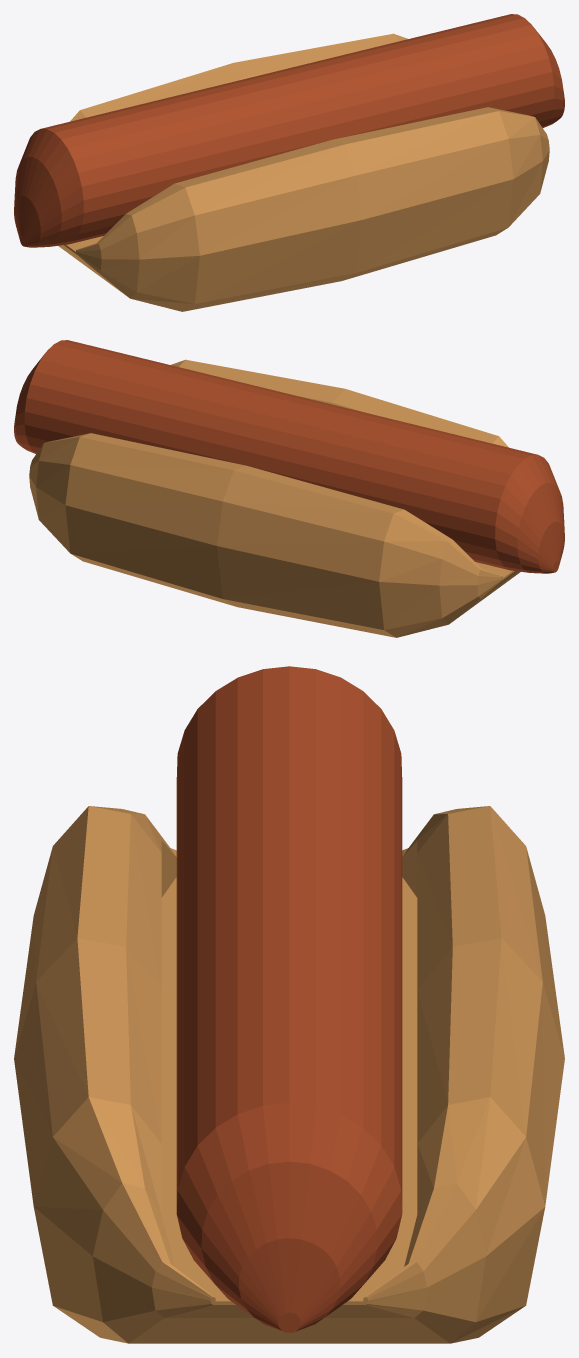
The model's file is NEW_RECOVERY_004_LOD0.fbx.
The picture shows the model from 3 angles, top to bottom: view 1: azimuth 30°, elevation 25°; view 2: azimuth 150°, elevation 25°; view 3: azimuth 270°, elevation 25°; orthographic projection. The views are drawn at different scales.
Visible parts, largest first — view 1: whole_split_bun, whole_sausage; view 2: whole_split_bun, whole_sausage; view 3: whole_split_bun, whole_sausage.
Boxes of the visible parts, x1,y1,x2,y2 form: whole_split_bun: (58, 33, 549, 311); whole_sausage: (14, 14, 564, 247); whole_split_bun: (29, 359, 520, 637); whole_sausage: (14, 340, 564, 573); whole_split_bun: (14, 806, 564, 1343); whole_sausage: (176, 666, 402, 1332).
Bounding box in the file's own units: 23.8 × 11.2 × 7.14.
